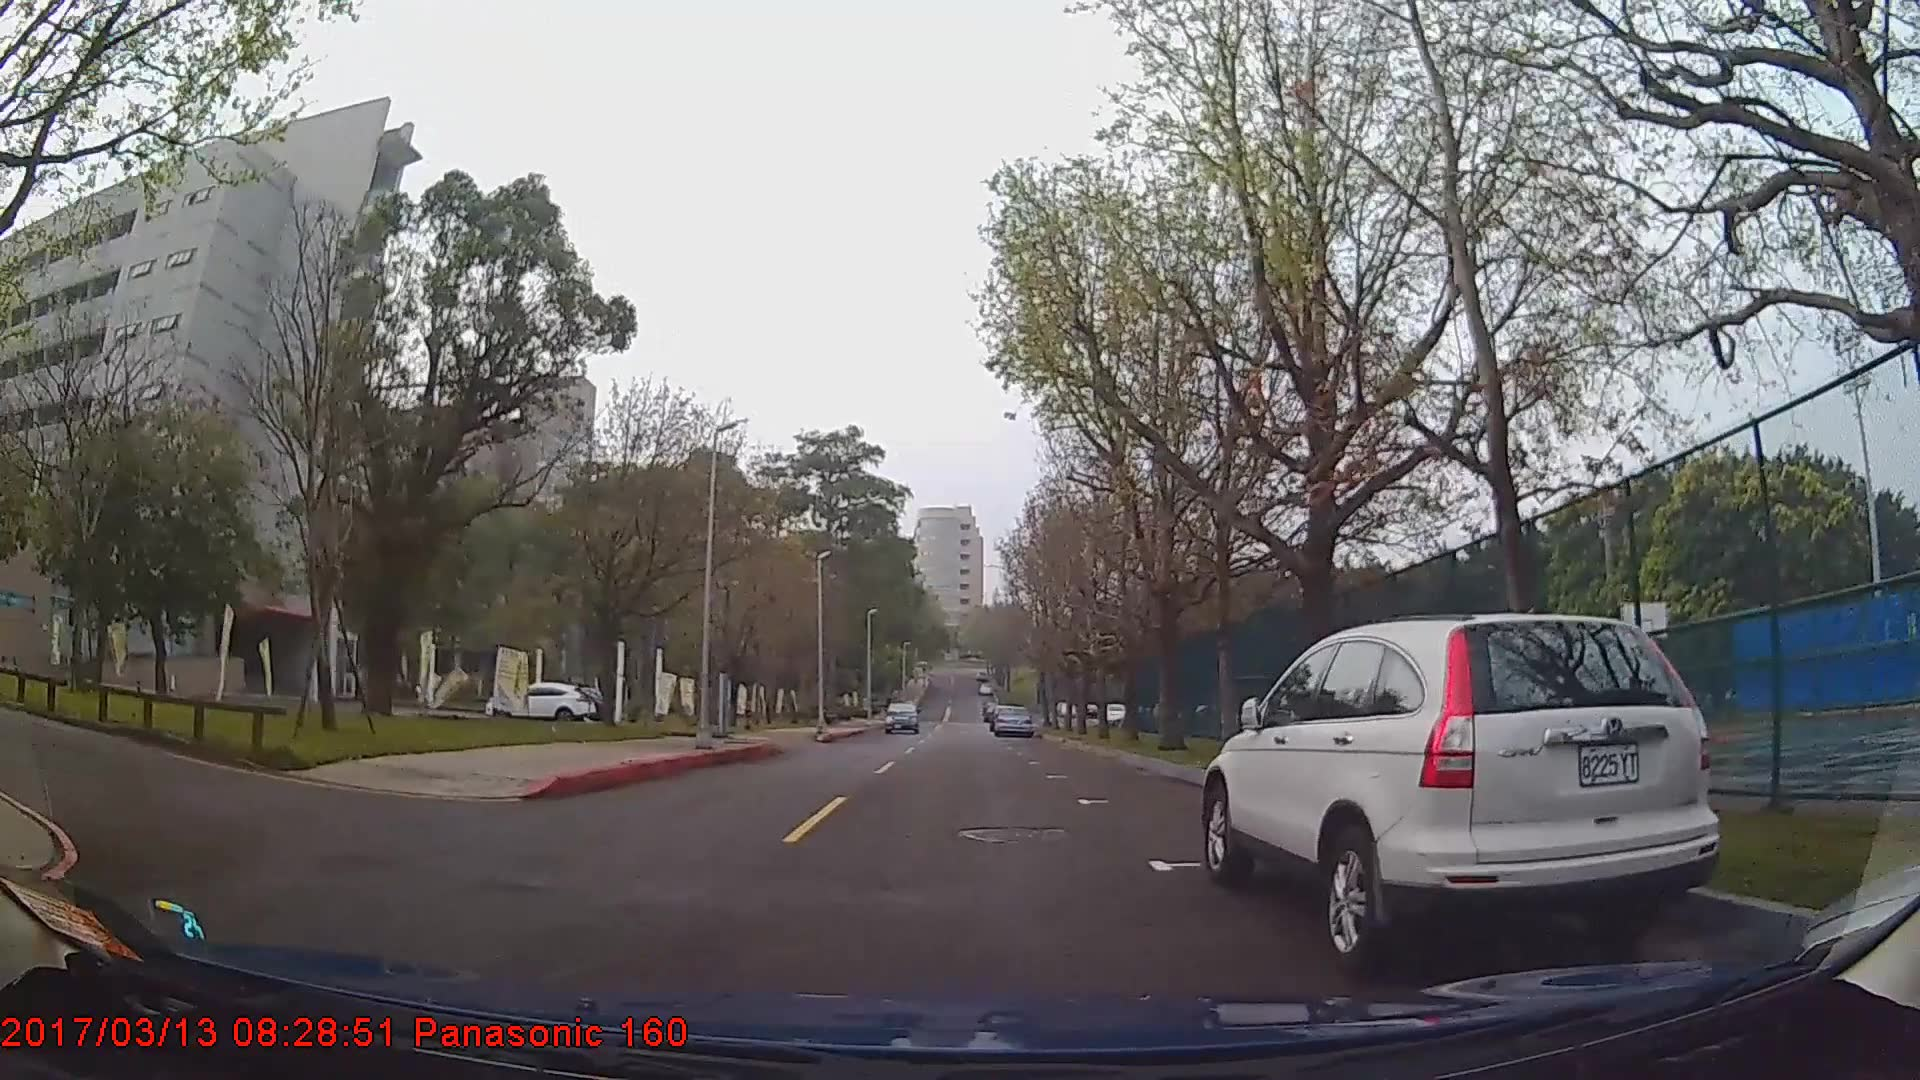vehicle: (1201, 607, 1724, 969), (491, 680, 596, 723), (992, 700, 1033, 735), (885, 700, 918, 735)
